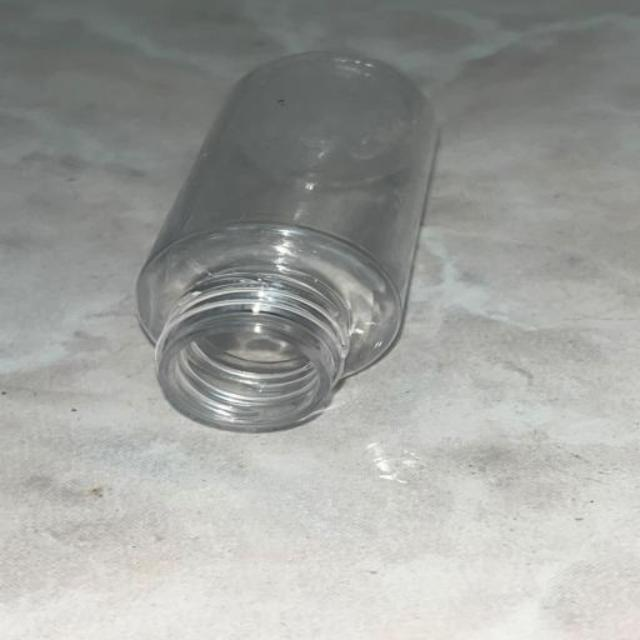PET: (98, 20, 522, 496)
